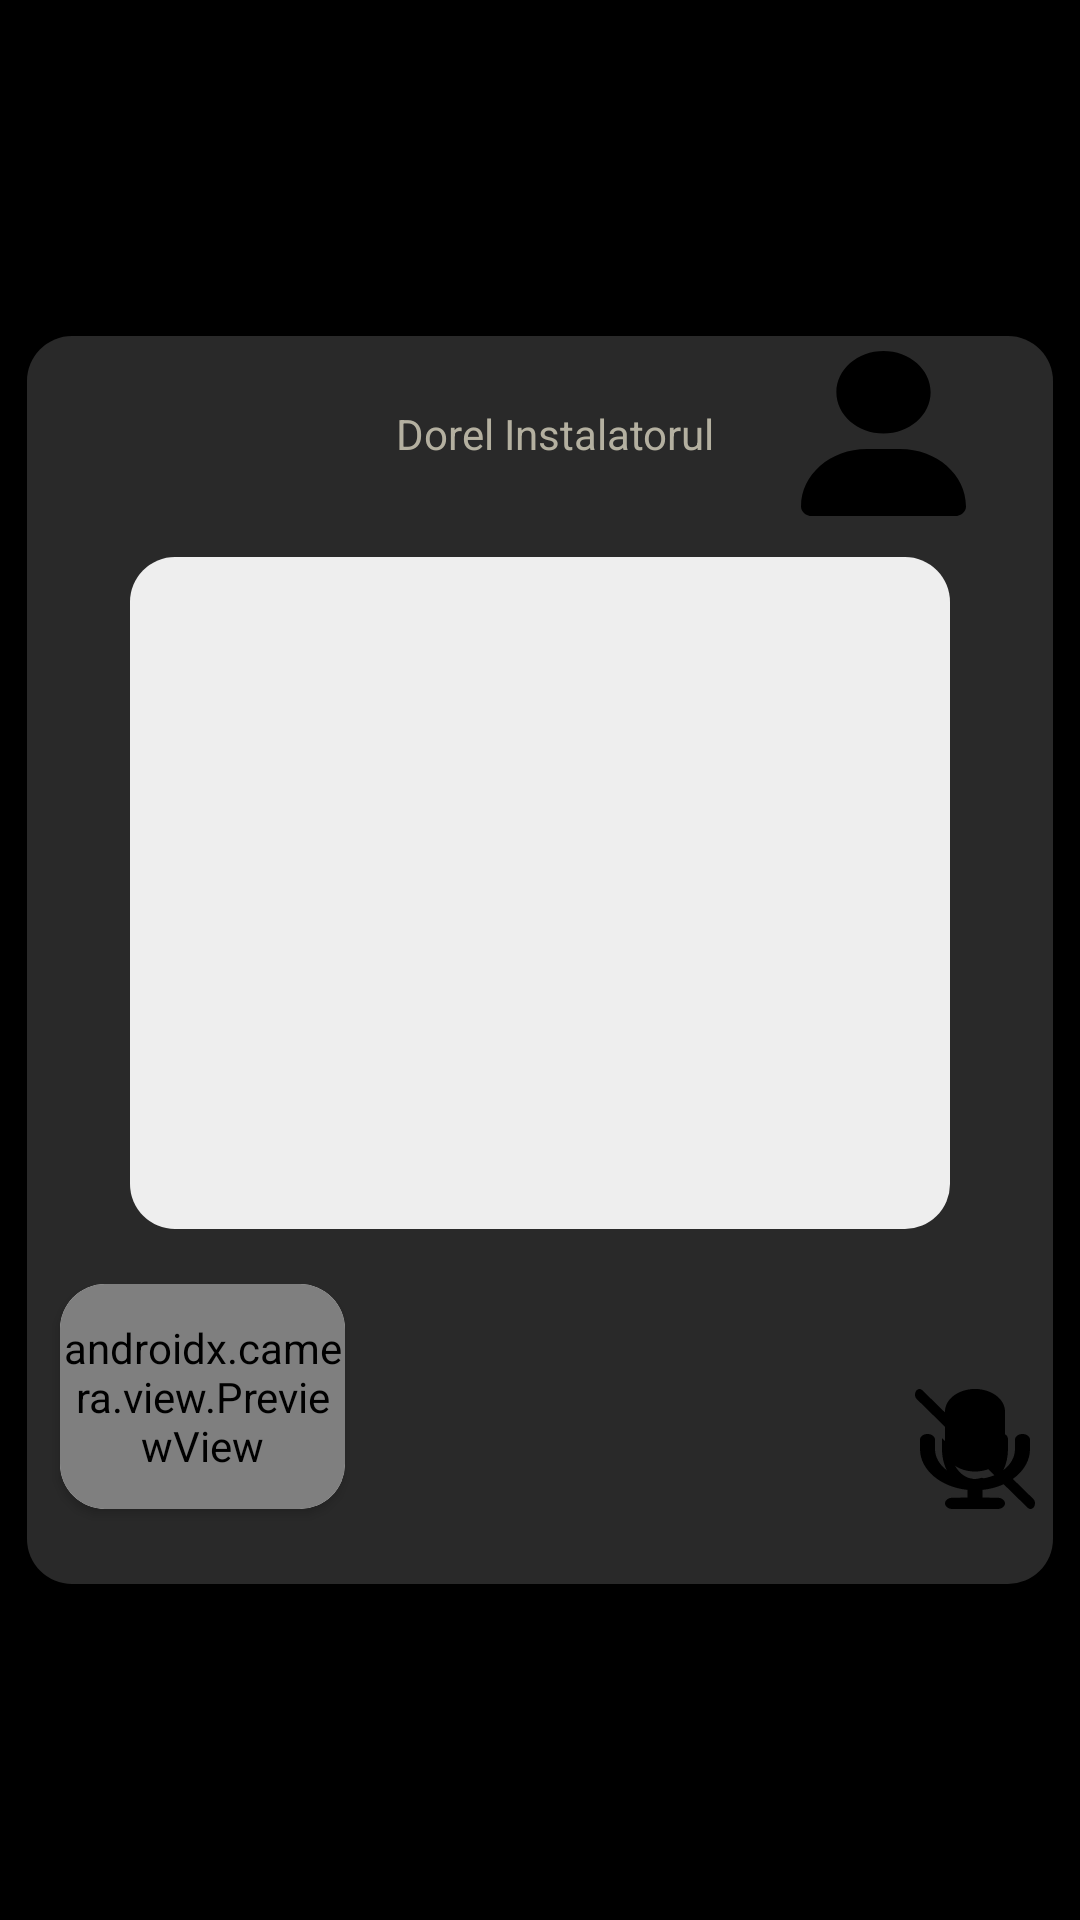

Where icons sit on this 1080x1920 app screen, as (x1, y1, x2, y2):
user: (801, 351, 966, 516)
